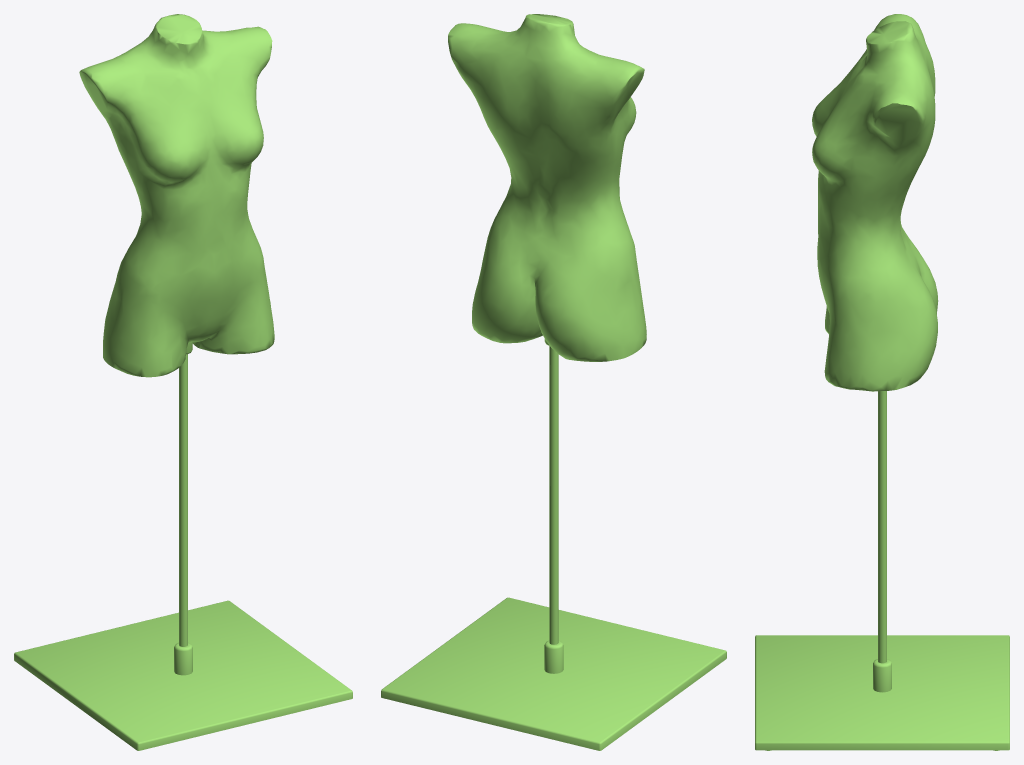
File: Mannequin_2_1.fbx
The picture shows the model from 3 angles, left to right: view 1: azimuth 30°, elevation 25°; view 2: azimuth 150°, elevation 25°; view 3: azimuth 270°, elevation 25°; orthographic projection. The views are drawn at different scales.
Visible parts, largest first — view 1: SM_Mannequin_2_1; view 2: SM_Mannequin_2_1; view 3: SM_Mannequin_2_1.
Boxes of the visible parts, left/top/right/bottom form: SM_Mannequin_2_1: left=14, top=14, right=352, bottom=750; SM_Mannequin_2_1: left=381, top=14, right=726, bottom=750; SM_Mannequin_2_1: left=755, top=14, right=1009, bottom=750.
Bounding box in the file's own units: 50 × 146 × 50.
